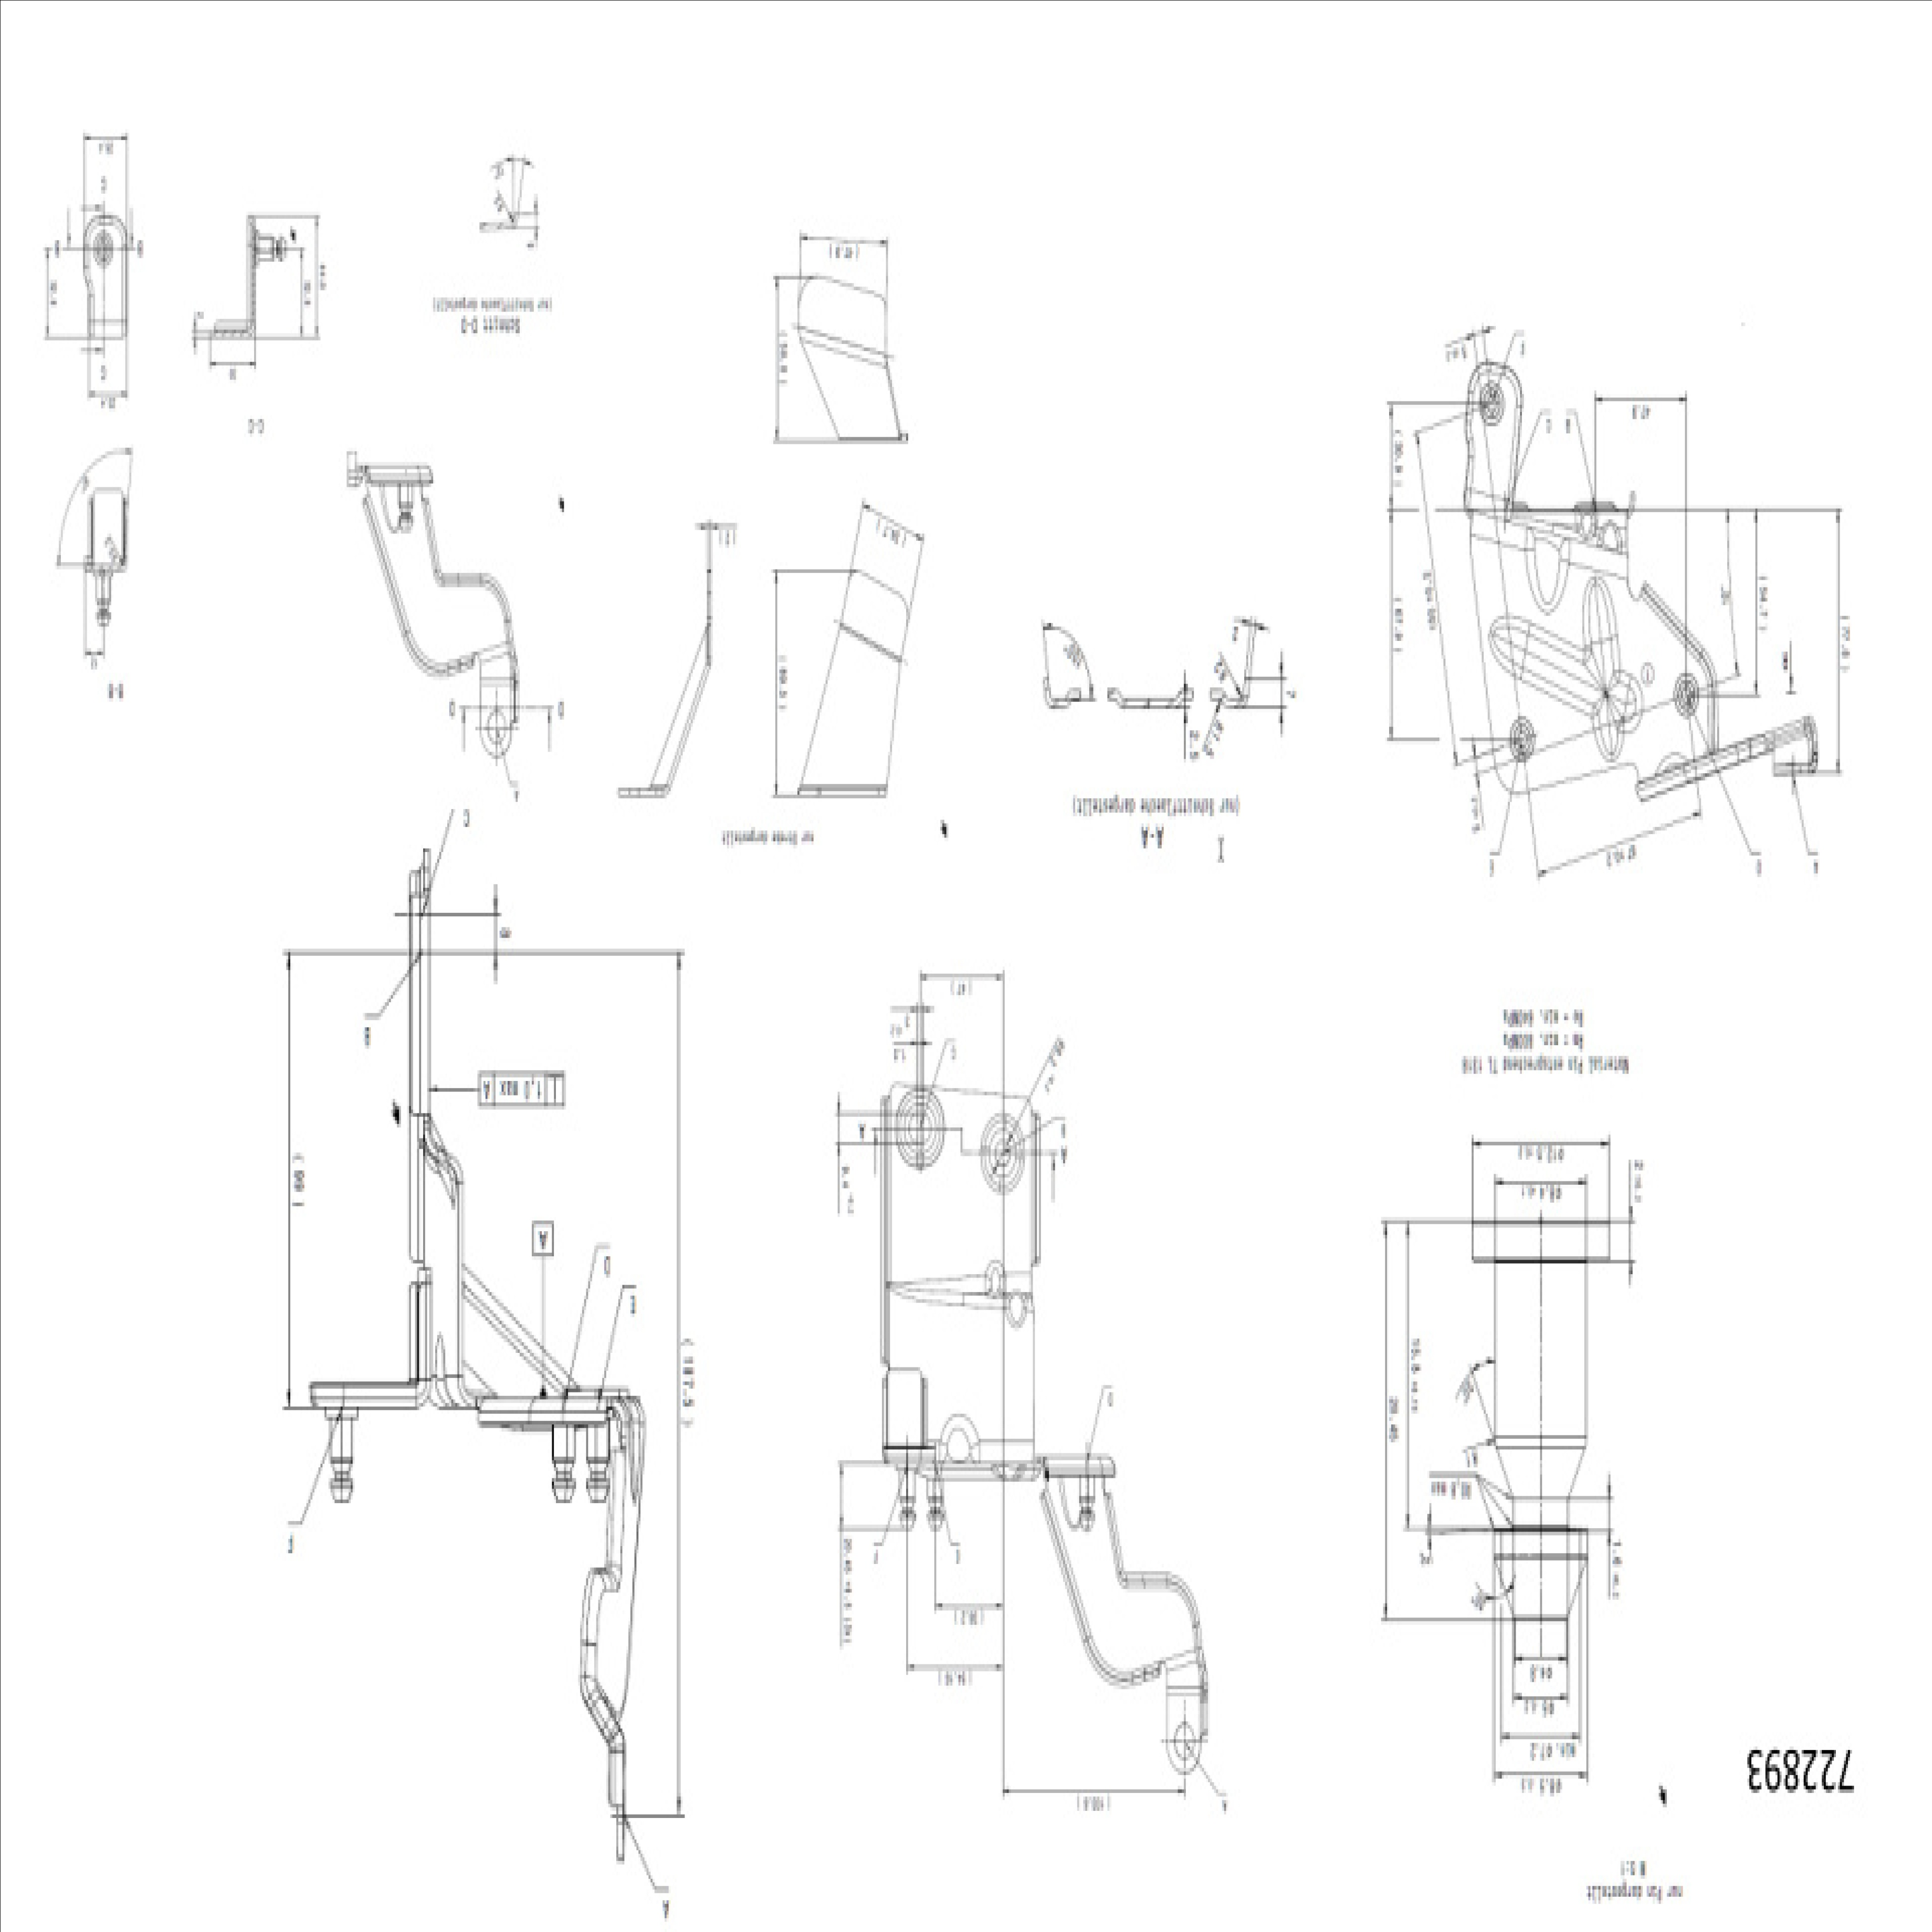Embossment: (1465, 598, 1621, 726)
Reinforcement: (1522, 526, 1571, 612), (938, 1410, 984, 1467), (1646, 745, 1693, 775), (1600, 517, 1625, 553), (1576, 507, 1600, 541), (984, 1259, 1006, 1296), (1006, 1296, 1029, 1332)
